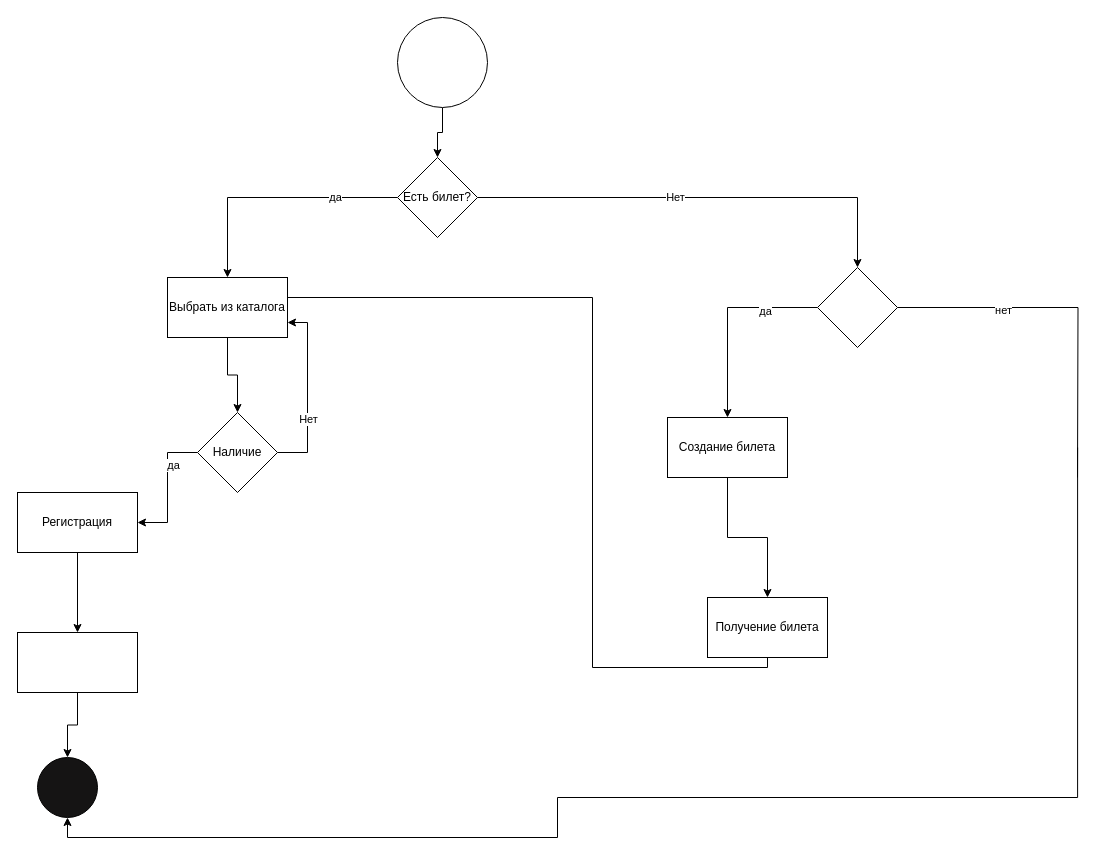
The diagram is 1104 pixels wide and 863 high, and some of its shapes have lost their labels. Each missing label, with the centre of its shape:
Выдача: the point at 77,662
Начало: the point at 442,62
Оформить?: the point at 857,307
